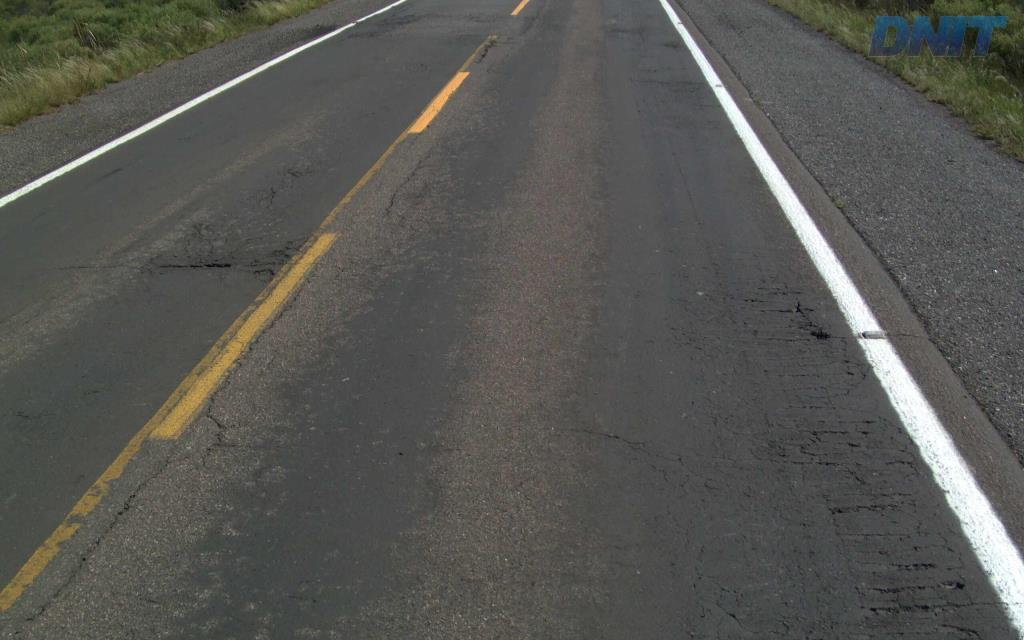crack: (854, 574, 967, 637), (794, 301, 844, 341), (797, 430, 848, 467), (827, 501, 898, 515)
